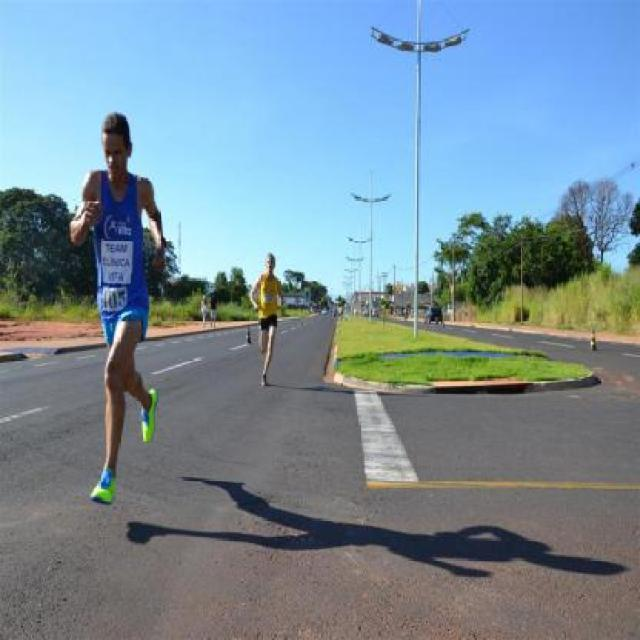Person: (68, 105, 170, 509), (248, 250, 286, 388), (328, 298, 352, 330), (208, 288, 220, 330), (196, 294, 209, 329)
